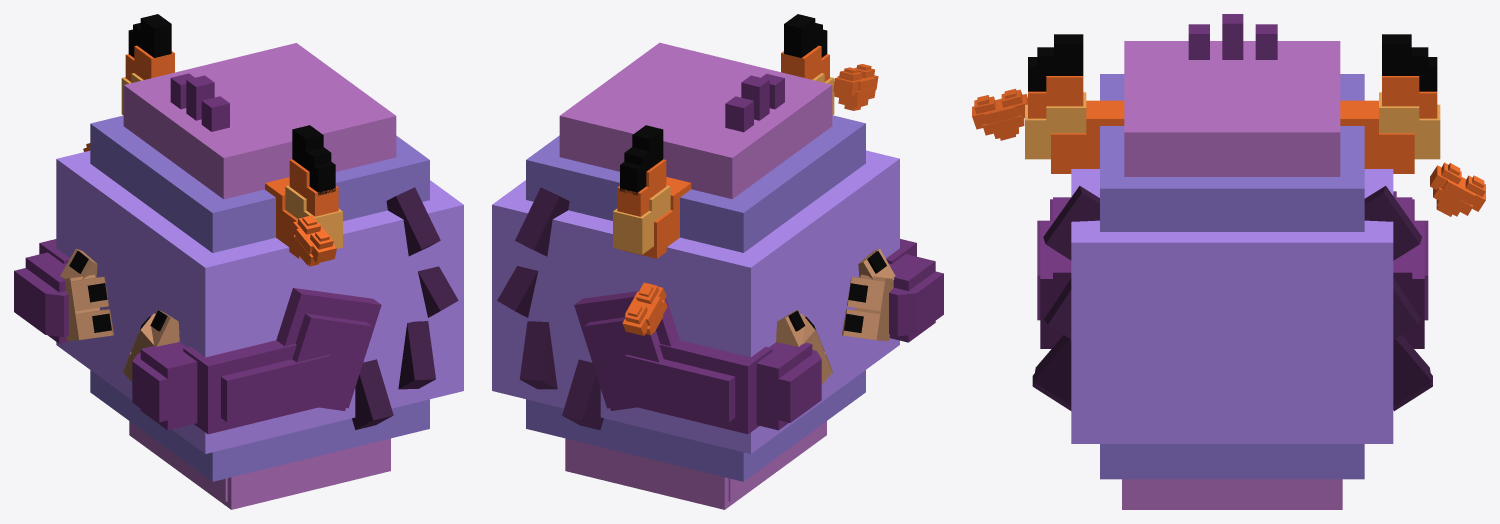
File: egg_little_monster.obj
3 renders of one model, left to right at view 1: azimuth 30°, elevation 25°; view 2: azimuth 150°, elevation 25°; view 3: azimuth 270°, elevation 25°, orthographic. The views are drawn at different scales.
Visible parts, largest first — view 1: E3, E1U, E2U, E2D, E1D; view 2: E3, E1U, E2U, E2D, E1D; view 3: E3, E2U, E1U, E2D, E1D.
Boxes of the visible parts, x1=… form: E3: x1=14, y1=143, x2=463, y2=453; E1U: x1=123, y1=43, x2=396, y2=199; E2U: x1=90, y1=14, x2=429, y2=258; E2D: x1=90, y1=370, x2=429, y2=481; E1D: x1=129, y1=421, x2=390, y2=509; E3: x1=492, y1=64, x2=943, y2=453; E1U: x1=559, y1=42, x2=832, y2=199; E2U: x1=526, y1=14, x2=865, y2=258; E2D: x1=526, y1=370, x2=865, y2=481; E1D: x1=565, y1=421, x2=826, y2=509; E3: x1=972, y1=88, x2=1485, y2=443; E2U: x1=1025, y1=34, x2=1440, y2=231; E1U: x1=1124, y1=14, x2=1340, y2=176; E2D: x1=1100, y1=444, x2=1364, y2=479; E1D: x1=1122, y1=479, x2=1342, y2=509.
Size of the model in its own units: 5 by 6.08 by 6.78.
